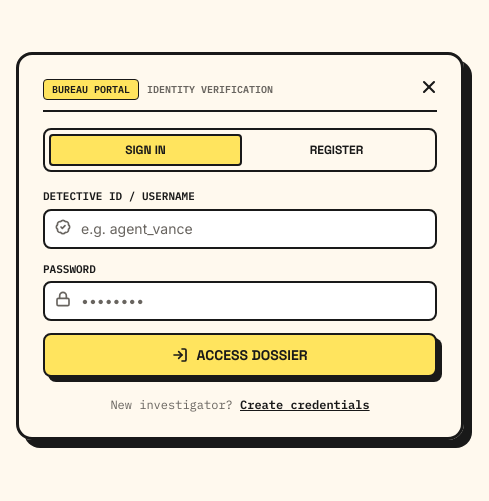
Test: AuthModal Component › switches to register tab and shows name and username fields
Step 1. Click the button "REGISTER" → click(336, 150), box x1=242 y1=134 x2=431 y2=166
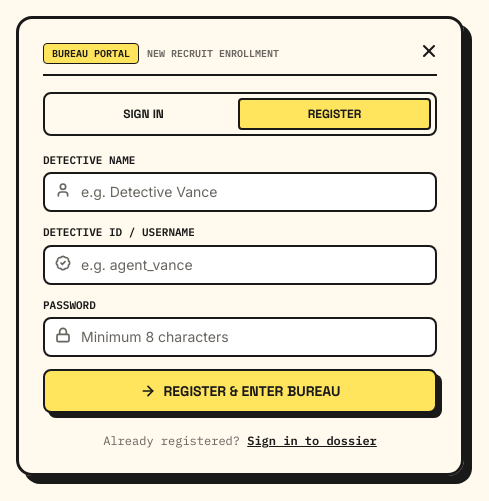
Expected: the text "NEW RECRUIT ENROLLMENT" is shown, x1=147 y1=46 x2=279 y2=61
Expected: the field labelled "Detective Name" is shown, x1=43 y1=172 x2=437 y2=212
Expected: the field labelled "Detective ID / Username" is shown, x1=43 y1=245 x2=437 y2=285
